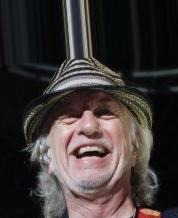face: (57, 104, 118, 164)
